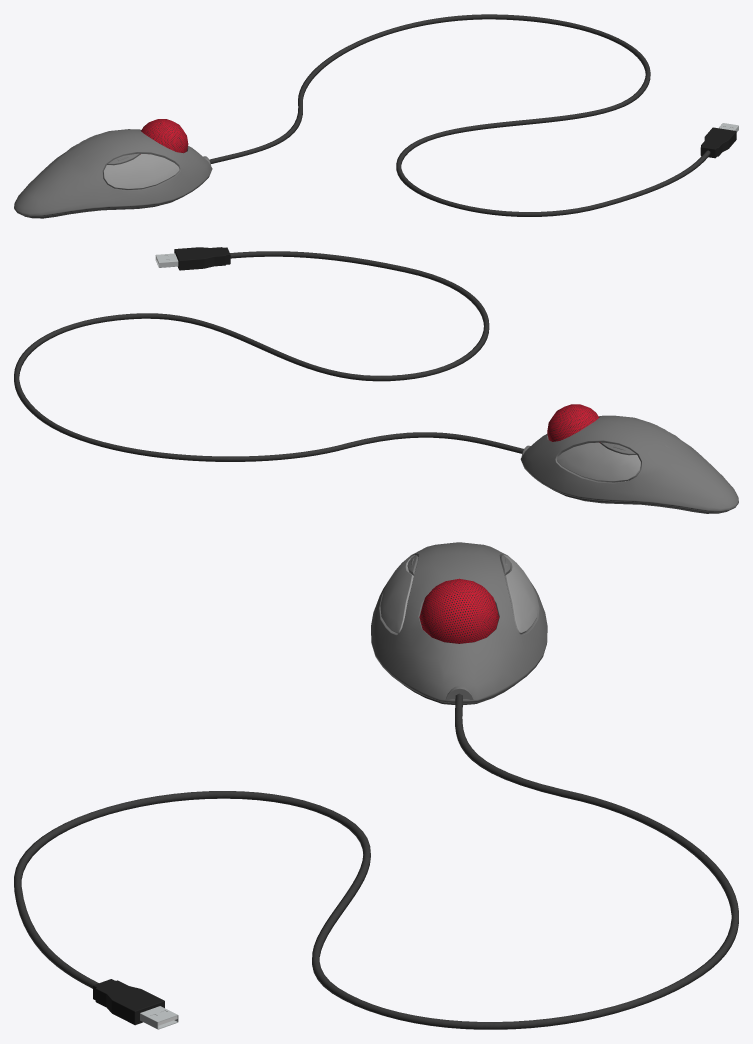
3 views of the same model, one above another, from view 1: azimuth 30°, elevation 25°; view 2: azimuth 150°, elevation 25°; view 3: azimuth 270°, elevation 25° (orthographic). The views are drawn at different scales.
Parts seen in each view (by area): view 1: trackball_Logitech_TrackmanMarble_Korpus_trackball_Logitech_, trackball_kabel_trackball_Logitech_TrackmanMarble_0, trackball_Logitech_TrackmanMarble_Knopka2_trackball_Logitech, trackball_ball, Shape009; view 2: trackball_Logitech_TrackmanMarble_Korpus_trackball_Logitech_, trackball_kabel_trackball_Logitech_TrackmanMarble_0, trackball_Logitech_TrackmanMarble_Knopka1_trackball_Logitech, Shape009, trackball_ball; view 3: trackball_Logitech_TrackmanMarble_Korpus_trackball_Logitech_, trackball_kabel_trackball_Logitech_TrackmanMarble_0, trackball_ball, Shape009, trackball_Logitech_TrackmanMarble_Knopka2_trackball_Logitech, trackball_Logitech_TrackmanMarble_Knopka1_trackball_Logitech.
Boxes of the visible parts, x1,y1,x2,y2 form: trackball_Logitech_TrackmanMarble_Korpus_trackball_Logitech_: (14,129,212,218); trackball_kabel_trackball_Logitech_TrackmanMarble_0: (209,14,710,216); trackball_Logitech_TrackmanMarble_Knopka2_trackball_Logitech: (103,153,179,189); trackball_ball: (140,119,188,154); Shape009: (700,123,738,158); trackball_Logitech_TrackmanMarble_Korpus_trackball_Logitech_: (520,415,738,513); trackball_kabel_trackball_Logitech_TrackmanMarble_0: (14,251,523,461); trackball_Logitech_TrackmanMarble_Knopka1_trackball_Logitech: (557,442,640,482); Shape009: (155,247,230,270); trackball_ball: (547,404,600,442); trackball_Logitech_TrackmanMarble_Korpus_trackball_Logitech_: (371,542,547,704); trackball_kabel_trackball_Logitech_TrackmanMarble_0: (14,693,738,1029); trackball_ball: (419,578,499,643); Shape009: (93,979,178,1029); trackball_Logitech_TrackmanMarble_Knopka2_trackball_Logitech: (380,555,418,634); trackball_Logitech_TrackmanMarble_Knopka1_trackball_Logitech: (500,555,538,634).
Size of the model in its own units: 535 by 47.67 by 346.
Materials: 1 (1 with a texture image).
